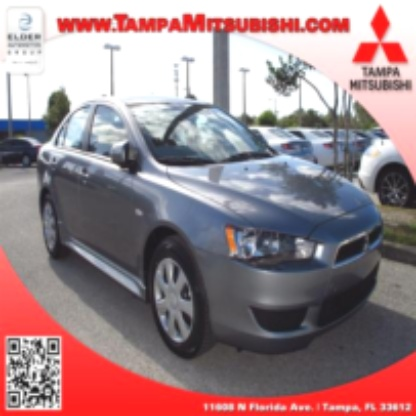Vehicle: (37, 94, 388, 360)
